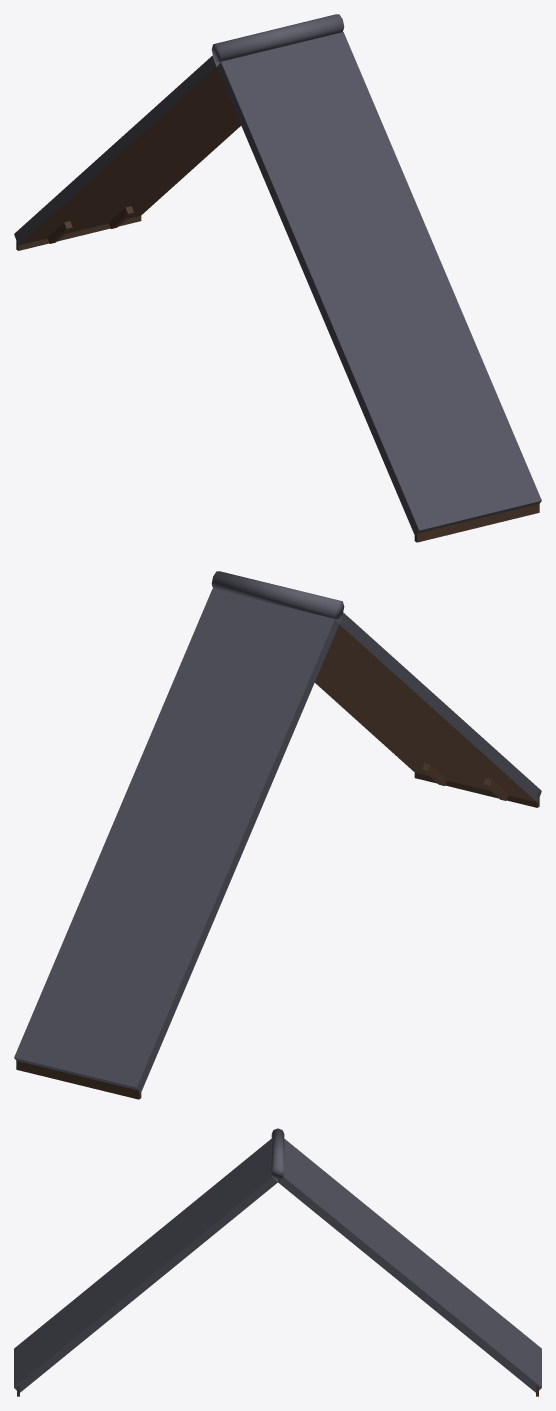
Rendered from kit_timber_slate_w5.glb.
3 renders of one model, top to bottom at view 1: azimuth 30°, elevation 25°; view 2: azimuth 150°, elevation 25°; view 3: azimuth 270°, elevation 25°, orthographic. The views are drawn at different scales.
Visible parts, largest first — view 1: kit_timber_slate_w5; view 2: kit_timber_slate_w5; view 3: kit_timber_slate_w5.
Boxes of the visible parts, x1,y1,x2,y2 form: kit_timber_slate_w5: (14,14,541,542); kit_timber_slate_w5: (14,571,541,1099); kit_timber_slate_w5: (14,1128,541,1396).
Size of the model in its own units: 1 by 2.74 by 5.72.
